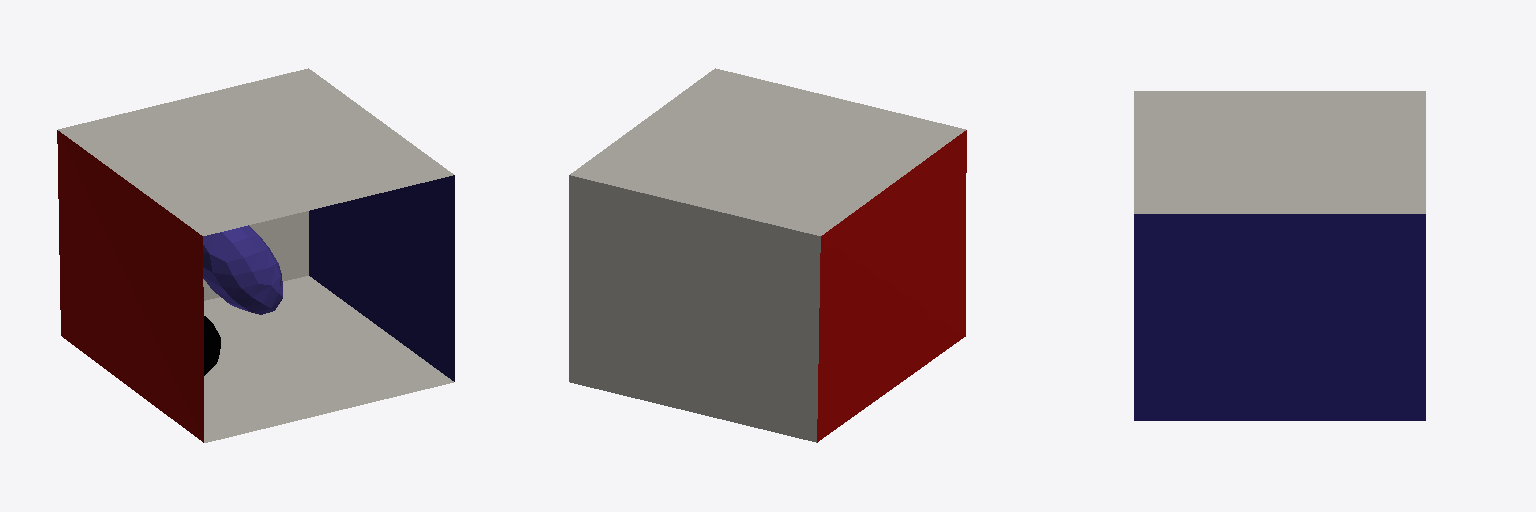
The model's file is CornellBox-Ellipsoid-248.obj.
3 views of the same model, side by side, from view 1: azimuth 30°, elevation 25°; view 2: azimuth 150°, elevation 25°; view 3: azimuth 270°, elevation 25° (orthographic).
Visible parts, largest first — view 1: ceiling, leftWall, floor, rightWall, leftSphere, backWall, rightSphere; view 2: backWall, ceiling, leftWall; view 3: rightWall, ceiling.
Part boxes in pixels (bbox=[...]): ceiling: bbox=[58, 68, 453, 235]; leftWall: bbox=[57, 130, 203, 442]; floor: bbox=[204, 276, 453, 442]; rightWall: bbox=[309, 175, 454, 381]; leftSphere: bbox=[203, 225, 282, 314]; backWall: bbox=[203, 211, 308, 300]; rightSphere: bbox=[204, 316, 220, 375]; backWall: bbox=[569, 175, 820, 442]; ceiling: bbox=[570, 68, 965, 235]; leftWall: bbox=[817, 130, 966, 442]; rightWall: bbox=[1134, 214, 1425, 420]; ceiling: bbox=[1134, 91, 1425, 213].
Bounding box in the file's own units: 2.02 × 1.59 × 2.03.